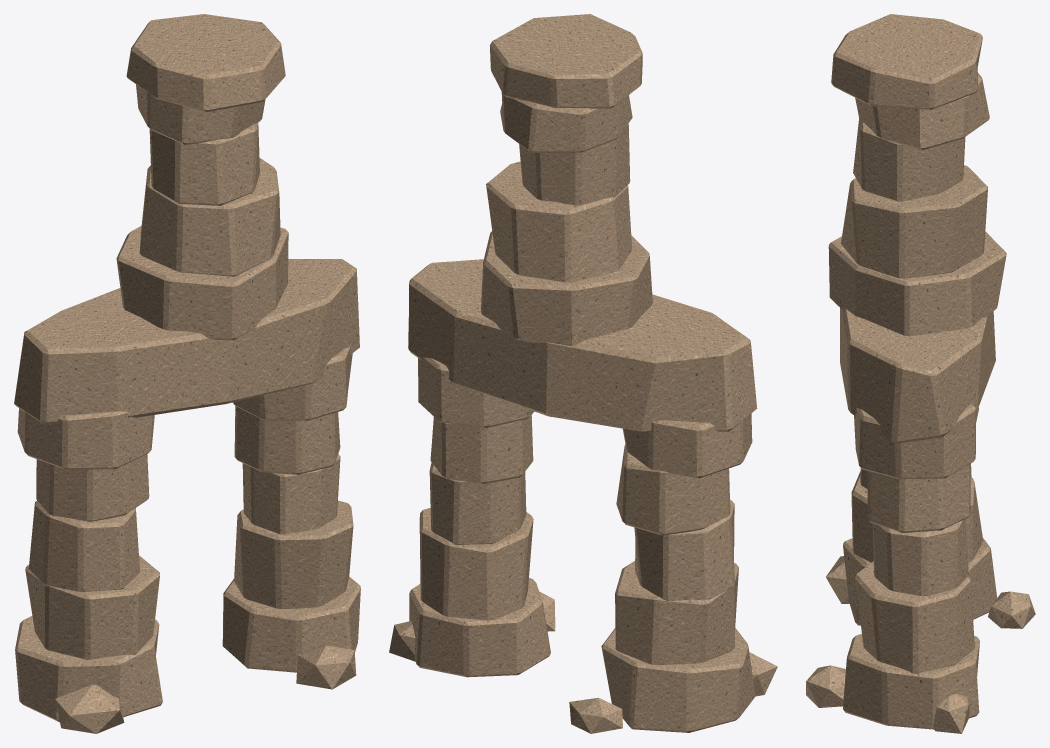
Rendered from ruins_arch.glb.
3 renders of one model, left to right at view 1: azimuth 30°, elevation 25°; view 2: azimuth 150°, elevation 25°; view 3: azimuth 270°, elevation 25°, orthographic.
Parts seen in each view (by area): view 1: Arch; view 2: Arch; view 3: Arch.
Part boxes in pixels (<box>): Arch: <box>14,14,360,733</box>; Arch: <box>389,14,777,733</box>; Arch: <box>806,14,1035,733</box>.
Size of the model in its own units: 9.39 by 16.71 by 5.64.
1 material, 1 textured.
